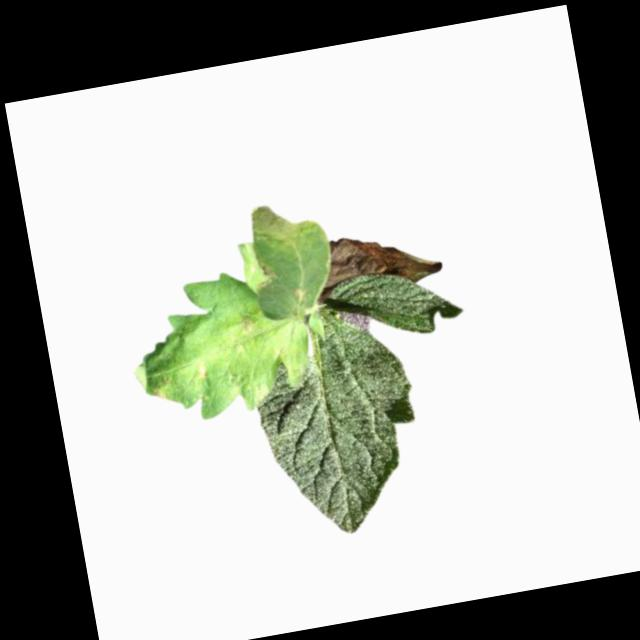Late_blight: (314, 222, 441, 297), (248, 196, 323, 250), (228, 310, 261, 342), (145, 373, 177, 405), (250, 259, 279, 290), (190, 358, 214, 388), (287, 283, 306, 310)
healthy: (240, 298, 434, 546), (315, 260, 466, 350)
